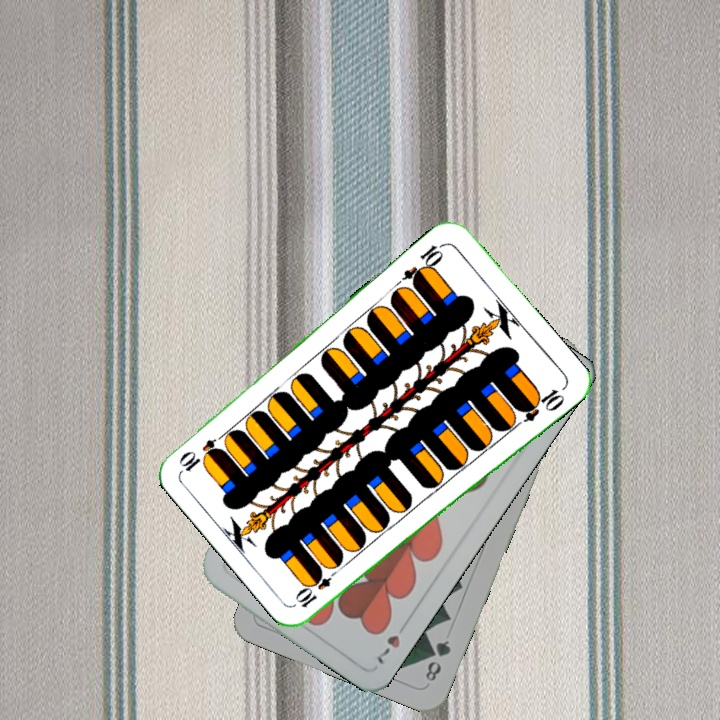E10: (292, 562, 343, 611), (399, 239, 448, 288)
G8: (421, 636, 454, 684)
H7: (372, 631, 403, 667)
